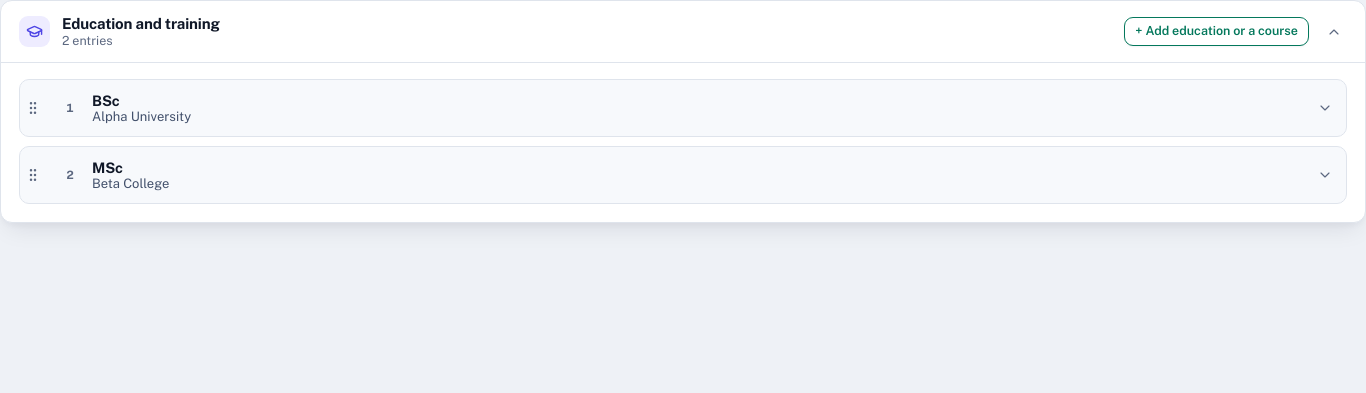
Test: EducationSection reorder reliability › a failed reorder reverts to the previously persisted order
Click the button "1 BSc Alpha University": (142, 116) [46,80,1346,136]
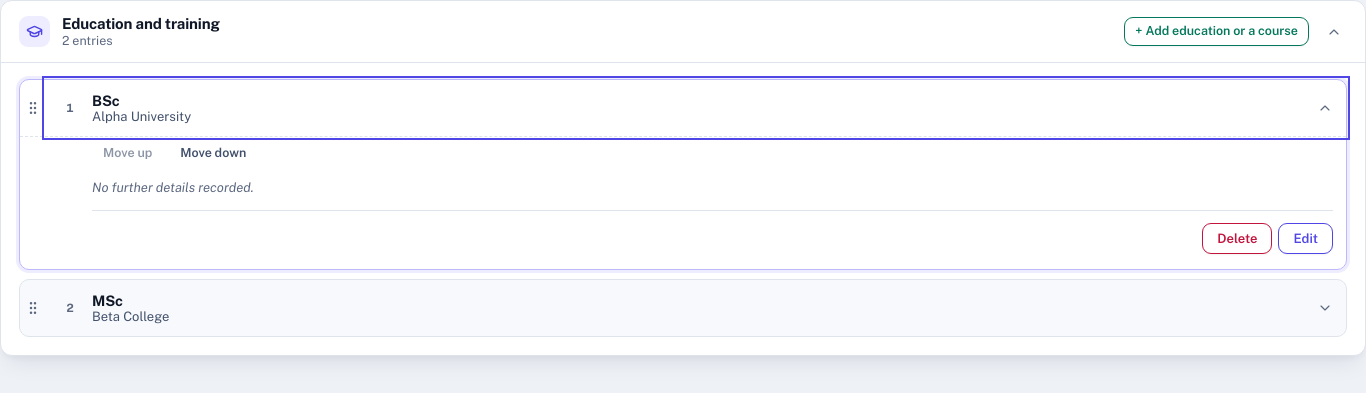
Click the button with aria-label "Move BSc down": (213, 153) [169,139,257,168]
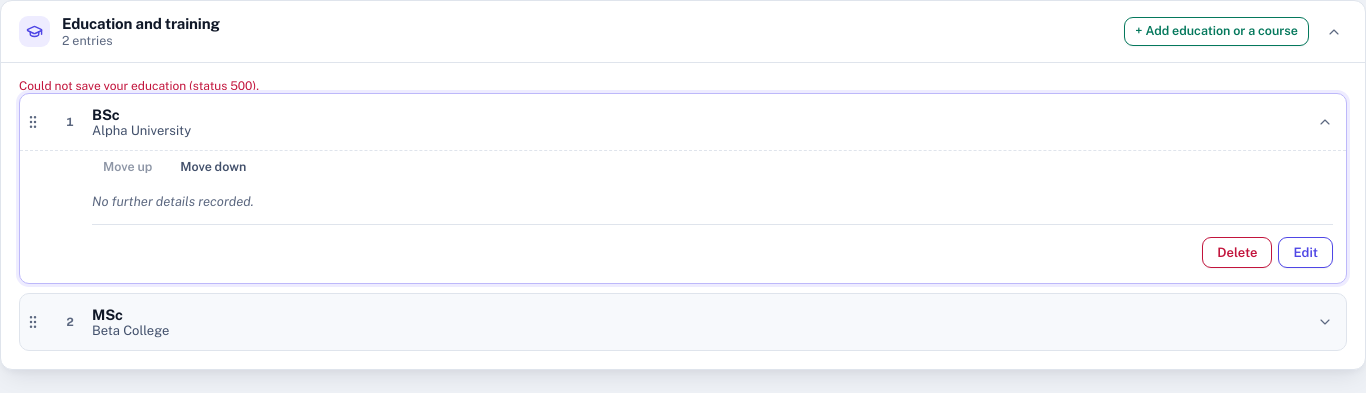
expect the message "Could not save your education (status 500)." is shown: met, box [19,79,259,93]
